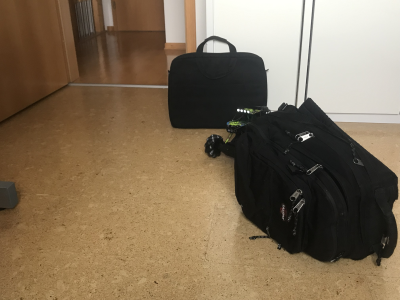remote control car: (202, 104, 276, 162)
